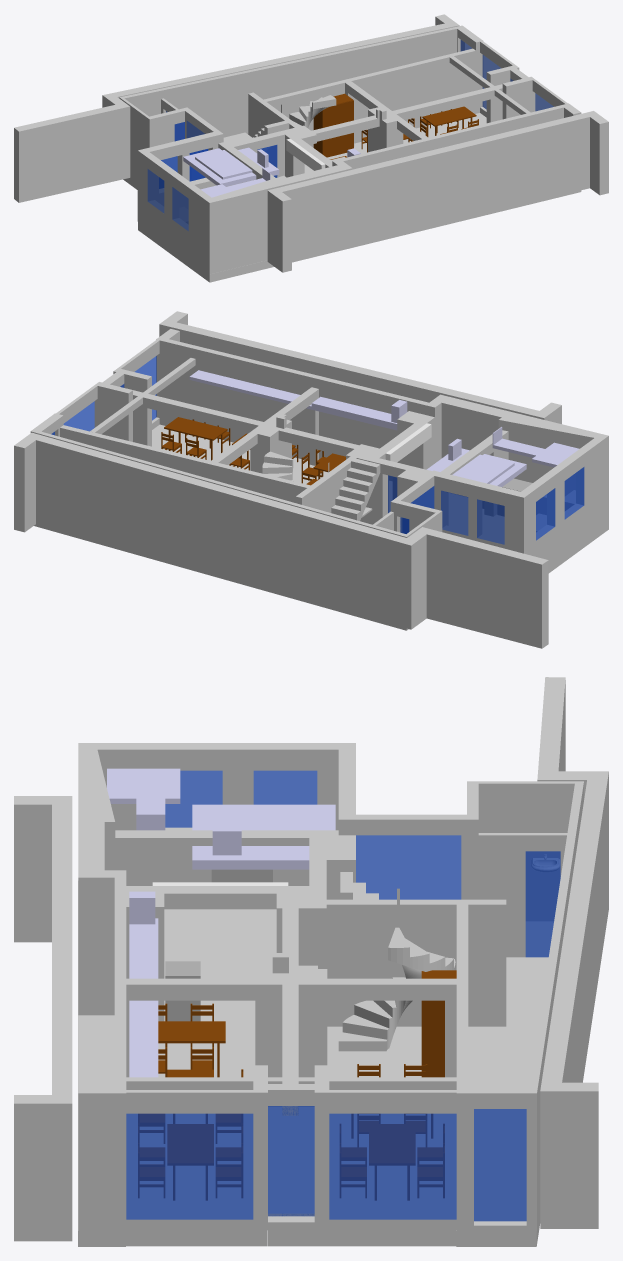
The model's file is DRM23EG.glb.
The picture shows the model from 3 angles, top to bottom: view 1: azimuth 30°, elevation 25°; view 2: azimuth 150°, elevation 25°; view 3: azimuth 270°, elevation 25°; orthographic projection. The views are drawn at different scales.
Visible parts, largest first — view 1: Mesh 8363, Mesh 2745, Mesh 8879, Mesh 2921, Mesh 7335, Mesh 3991, Mesh 3769, Mesh 870, Mesh 7551, Mesh 8535, Mesh 40129, Mesh 2573 (+28 smaller); view 2: Mesh 8535, Mesh 8879, Mesh 3769, Mesh 8363, Mesh 3991, Mesh 870, Mesh 2921, Mesh 7551, Mesh 7335, Mesh 5886, Mesh 9051, Mesh 11492 (+39 smaller); view 3: Mesh 870, Mesh 5294, Mesh 8535, Mesh 638, Mesh 11045, Mesh 3991, Mesh 8363, Mesh 8191, Mesh 5106, Mesh 6769, Mesh 2219, Mesh 3309 (+55 smaller).
Boxes of the visible parts, bbox=[...] form: Mesh 8363: bbox=[267, 111, 598, 265]; Mesh 2745: bbox=[119, 27, 457, 137]; Mesh 8879: bbox=[14, 104, 120, 202]; Mesh 2921: bbox=[264, 48, 475, 147]; Mesh 7335: bbox=[205, 175, 293, 274]; Mesh 3991: bbox=[142, 152, 211, 270]; Mesh 3769: bbox=[340, 105, 563, 169]; Mesh 870: bbox=[123, 113, 581, 282]; Mesh 7551: bbox=[137, 130, 223, 224]; Mesh 8535: bbox=[102, 21, 459, 107]; Mesh 40129: bbox=[313, 93, 353, 157]; Mesh 2573: bbox=[590, 115, 608, 195]; Mesh 8535: bbox=[26, 432, 417, 629]; Mesh 8879: bbox=[426, 530, 548, 648]; Mesh 3769: bbox=[165, 339, 428, 480]; Mesh 8363: bbox=[159, 319, 550, 421]; Mesh 3991: bbox=[521, 438, 603, 563]; Mesh 870: bbox=[34, 424, 608, 630]; Mesh 2921: bbox=[60, 425, 310, 502]; Mesh 7551: bbox=[428, 470, 529, 554]; Mesh 7335: bbox=[498, 414, 608, 523]; Mesh 5886: bbox=[432, 394, 518, 457]; Mesh 9051: bbox=[14, 437, 35, 532]; Mesh 11492: bbox=[331, 458, 380, 520]; Mesh 870: bbox=[78, 881, 553, 1246]; Mesh 5294: bbox=[326, 888, 506, 1026]; Mesh 8535: bbox=[540, 771, 608, 1228]; Mesh 638: bbox=[329, 1113, 456, 1219]; Mesh 11045: bbox=[126, 1113, 253, 1219]; Mesh 3991: bbox=[96, 743, 338, 885]; Mesh 8363: bbox=[52, 796, 72, 1241]; Mesh 8191: bbox=[78, 1085, 126, 1230]; Mesh 5106: bbox=[478, 781, 575, 920]; Mesh 6769: bbox=[356, 835, 461, 899]; Mesh 2219: bbox=[255, 953, 327, 1106]; Mesh 3309: bbox=[456, 1086, 537, 1230].
Size of what is drawn, in the model's own units: 17.26 by 2.9 by 10.18.
